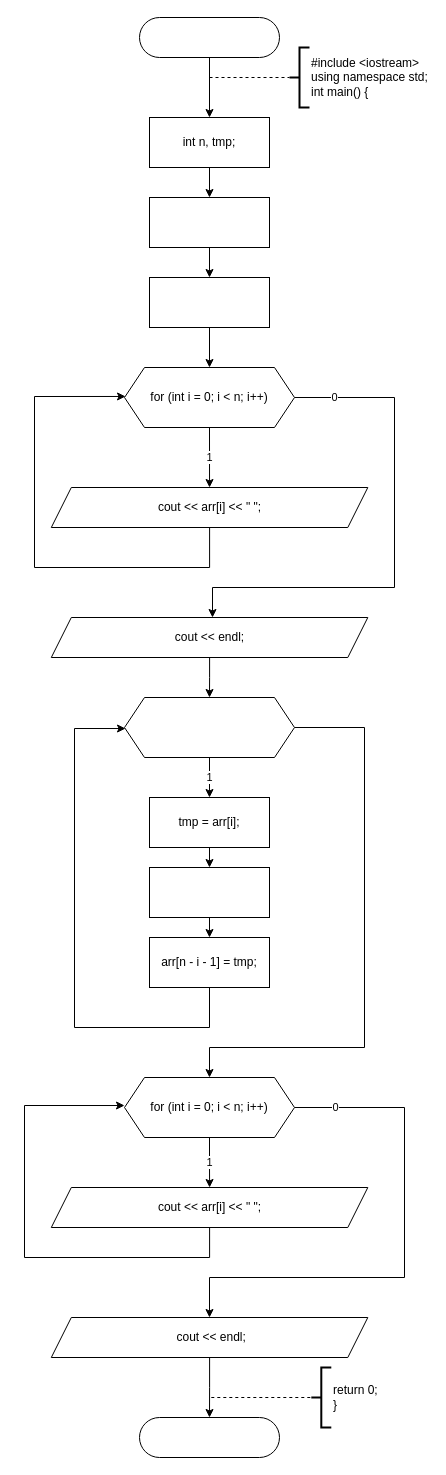
This 446x1475 diagram has some shape labels left out. Here are the shapes that lost their labels. From the top down, the centre of each, then its label:
(209,37): Запуск
(209,222): n = 5;
(209,302): int arr[5] = {54,23,87,21,2 };
(209,727): for (int i = 0; i < n / 2; i++)
(209,892): arr[i] = arr[n - i - 1];
(209,1437): Конец
